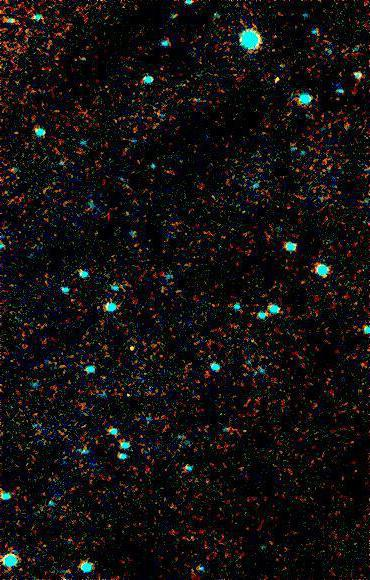star: (118, 331, 148, 361)
